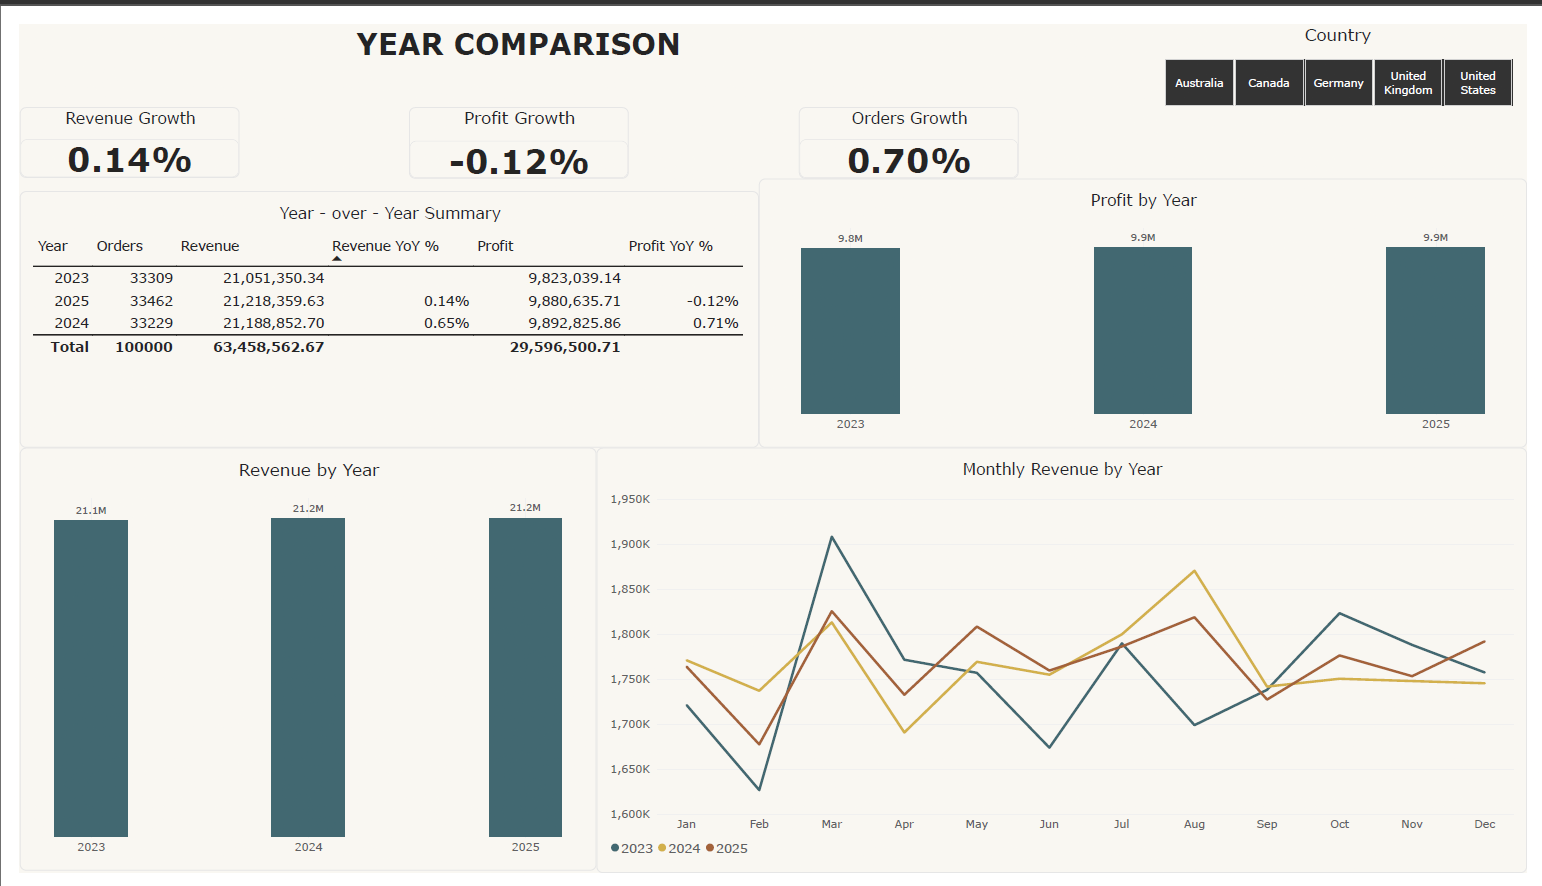

The page's visual inventory and layout, read from the dashboard file:
{"tool":"powerbi","page":{"name":"Year comparison","canvas":[1920,1080],"ordinal":2},"visuals":[{"type":"cardVisual","title":"Revenue Growth","fields":{"Data":["All_measures.revenue_growth_latest"]},"box":[0,105,280,90],"z":0},{"type":"cardVisual","title":"Orders Growth","fields":{"Data":["All_measures.orders_growth_latest"]},"box":[992.5,105,280,90.7],"z":1000},{"type":"cardVisual","title":"Profit Growth","fields":{"Data":["All_measures.profit_growth_latest"]},"box":[496.3,105,280,90.7],"z":2000},{"type":"lineChart","title":"Monthly Revenue by Year","fields":{"Category":["DateTable.Month Name"],"Series":["DateTable.Year"],"Y":["All_measures.collected_revenue"]},"box":[734.9,539.2,1185.8,541.6],"z":4000},{"type":"tableEx","title":"Year - over - Year Summary","fields":{"Values":["DateTable.Year","All_measures.total_orders","All_measures.collected_revenue","All_measures.Revenue_Year_over_year","All_measures.profit","All_measures.Profit_Year_Over_Year"]},"box":[0,212.3,942.4,326.9],"z":5000},{"type":"clusteredColumnChart","title":"Profit by Year","fields":{"Category":["DateTable.Year"],"Y":["All_measures.profit"]},"box":[942.4,195.6,978.2,343.6],"z":7000},{"type":"slicer","title":"Country","fields":{"Values":["customers.Country"]},"box":[1438.7,0,482,105],"z":9000},{"type":"clusteredColumnChart","title":"Revenue by Year","fields":{"Category":["DateTable.Year"],"Y":["All_measures.collected_revenue"]},"box":[0,539.2,734.9,539.2],"z":10000},{"type":"textbox","box":[0,0,1271.7,93.1],"z":12000}]}

Visuals, with their boxes in screenshot pixels (x1, y1, x2, y2), scaled from the page's 1920x1080 canvas onto the 1542x886 screenshot:
"Revenue Growth" cardVisual: detection(0, 86, 225, 160)
"Orders Growth" cardVisual: detection(797, 86, 1022, 161)
"Profit Growth" cardVisual: detection(399, 86, 623, 161)
"Monthly Revenue by Year" lineChart: detection(590, 442, 1541, 885)
"Year - over - Year Summary" tableEx: detection(0, 174, 757, 442)
"Profit by Year" clusteredColumnChart: detection(757, 160, 1541, 442)
"Country" slicer: detection(1155, 0, 1541, 86)
"Revenue by Year" clusteredColumnChart: detection(0, 442, 590, 885)
textbox: detection(0, 0, 1021, 76)
